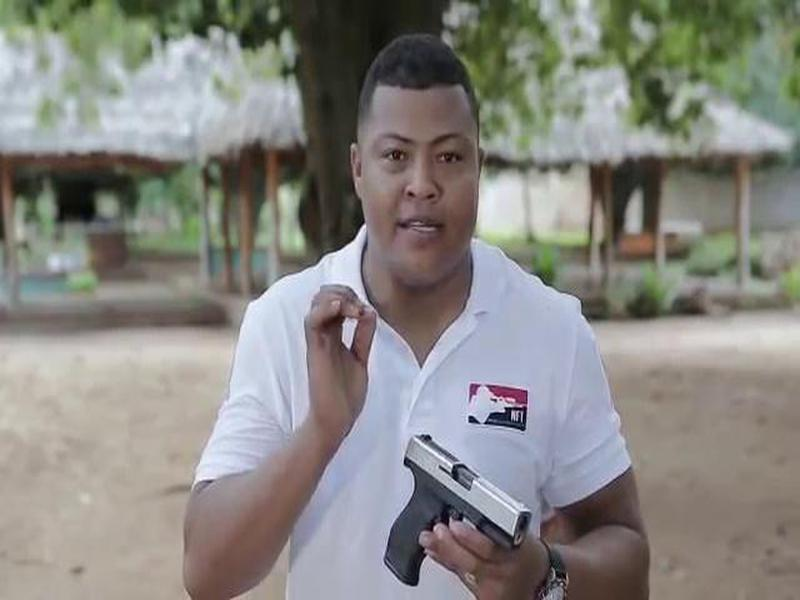Pistola: (378, 424, 547, 594)
